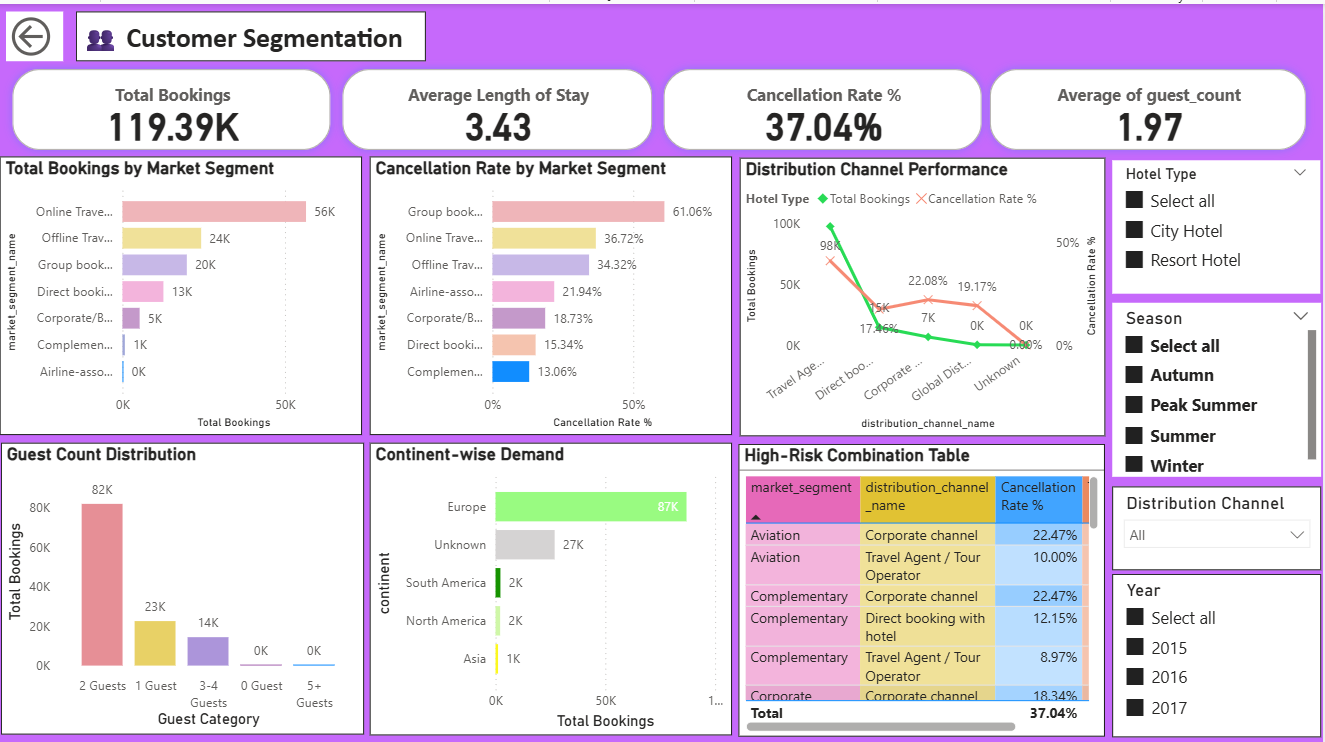

The dashboard page shown, as its layout file describes it:
{"tool":"powerbi","page":{"name":"Customer Segmentation","canvas":[1280,720],"ordinal":3},"visuals":[{"type":"textbox","box":[77.2,7.2,337.8,48.3],"z":0},{"type":"cardVisual","fields":{"Data":["vw_hotel_analysis.Total Bookings"]},"box":[0,47.1,339,110],"z":0,"group":"g1"},{"type":"barChart","title":"Total Bookings by Market Segment","fields":{"Category":["vw_hotel_analysis.market_segment_name"],"Y":["vw_hotel_analysis.Total Bookings"]},"box":[4.2,147.5,350,268.6],"z":0,"group":"g2"},{"type":"group","id":"g1","title":"Group 1","box":[0,47.1,1281.2,110],"z":1000},{"type":"slicer","fields":{"Values":["vw_hotel_analysis.season"]},"box":[1077.6,288.5,201.6,168],"z":1000,"group":"g2"},{"type":"cardVisual","fields":{"Data":["Avg(vw_hotel_analysis.stay_length)"]},"box":[318.5,47.1,331.8,110],"z":2000},{"type":"cardVisual","fields":{"Data":["vw_hotel_analysis.Cancellation Rate %"]},"box":[628.9,47.1,339.5,110],"z":2000,"group":"g1"},{"type":"tableEx","title":"High-Risk Combination Table","fields":{"Values":["vw_hotel_analysis.market_segment","vw_hotel_analysis.distribution_channel_name","vw_hotel_analysis.Cancellation Rate %","vw_hotel_analysis.Total Bookings"]},"box":[716.8,425.6,353.8,282.6],"z":2000,"group":"g2"},{"type":"actionButton","box":[9.7,7.2,55.5,48.3],"z":3000},{"type":"slicer","fields":{"Values":["vw_hotel_analysis.distribution_channel_name"]},"box":[1078,465.5,201.8,81.1],"z":3000,"group":"g2"},{"type":"cardVisual","fields":{"Data":["Avg(vw_hotel_analysis.guest_count)"]},"box":[943.4,47.1,337.8,110],"z":4000,"group":"g1"},{"type":"group","id":"g2","title":"Group 2","box":[4.2,147.5,1275.8,560.7],"z":4000},{"type":"barChart","title":"Cancellation Rate by Market Segment","fields":{"Category":["vw_hotel_analysis.market_segment_name"],"Y":["vw_hotel_analysis.Cancellation Rate %"]},"box":[361.4,147.5,350,268.6],"z":4000,"group":"g2"},{"type":"slicer","fields":{"Values":["vw_hotel_analysis.arrival_date.Variation.Date Hierarchy.Year"]},"box":[1078.2,549.9,201.8,157.8],"z":5000,"group":"g2"},{"type":"barChart","title":"Continent-wise Demand","fields":{"Category":["vw_hotel_analysis.continent"],"Y":["vw_hotel_analysis.Total Bookings"]},"box":[361.4,423.8,350,282.7],"z":6000,"group":"g2"},{"type":"slicer","fields":{"Values":["vw_hotel_analysis.hotel"]},"box":[1078,150.7,200.5,128.8],"z":7000,"group":"g2"},{"type":"lineChart","title":"Distribution Channel Performance","fields":{"Category":["vw_hotel_analysis.distribution_channel_name"],"Y":["vw_hotel_analysis.Total Bookings"],"Y2":["vw_hotel_analysis.Cancellation Rate %"]},"box":[718.2,148.2,352.5,268.6],"z":8000,"group":"g2"},{"type":"clusteredColumnChart","title":"Guest Count Distribution","fields":{"Y":["vw_hotel_analysis.Total Bookings"],"Category":["vw_hotel_analysis.Guest Category"]},"box":[4.9,424.4,350.1,281.3],"z":9000,"group":"g2"}]}

Visuals, with their boxes in screenshot pixels (x1, y1, x2, y2), scaled from the page's 1280x720 canvas onto the 1325x742 screenshot:
textbox: select_region(80, 7, 430, 57)
cardVisual - vw_hotel_analysis.Total Bookings: select_region(0, 49, 351, 162)
"Total Bookings by Market Segment" barChart: select_region(4, 152, 367, 429)
"Group 1" group: select_region(0, 49, 1324, 162)
slicer - vw_hotel_analysis.season: select_region(1115, 297, 1324, 470)
cardVisual - Avg(vw_hotel_analysis.stay_length): select_region(330, 49, 673, 162)
cardVisual - vw_hotel_analysis.Cancellation Rate %: select_region(651, 49, 1002, 162)
"High-Risk Combination Table" tableEx: select_region(742, 439, 1108, 730)
actionButton: select_region(10, 7, 67, 57)
slicer - vw_hotel_analysis.distribution_channel_name: select_region(1116, 480, 1324, 563)
cardVisual - Avg(vw_hotel_analysis.guest_count): select_region(977, 49, 1324, 162)
"Group 2" group: select_region(4, 152, 1324, 730)
"Cancellation Rate by Market Segment" barChart: select_region(374, 152, 736, 429)
slicer - vw_hotel_analysis.arrival_date.Variation.Date Hierarchy.Year: select_region(1116, 567, 1324, 729)
"Continent-wise Demand" barChart: select_region(374, 437, 736, 728)
slicer - vw_hotel_analysis.hotel: select_region(1116, 155, 1323, 288)
"Distribution Channel Performance" lineChart: select_region(743, 153, 1108, 430)
"Guest Count Distribution" clusteredColumnChart: select_region(5, 437, 367, 727)
